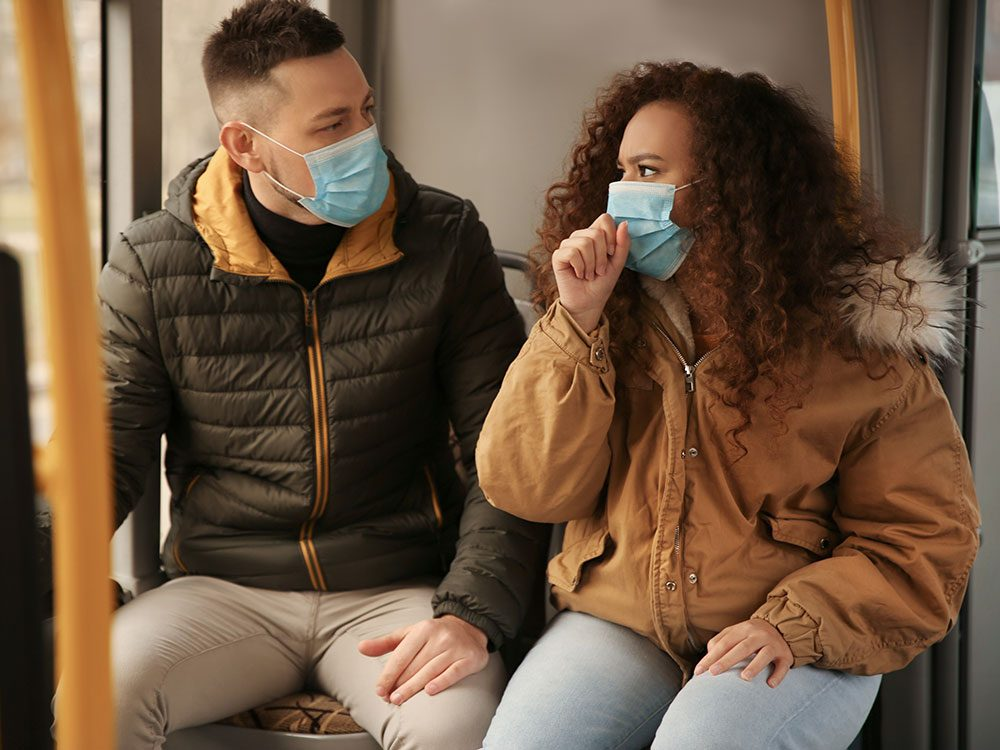with_mask: (295, 98, 390, 215), (610, 145, 694, 262)
